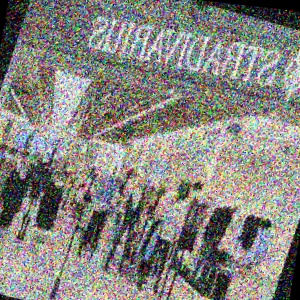stradivarius: (265, 8, 300, 19)
